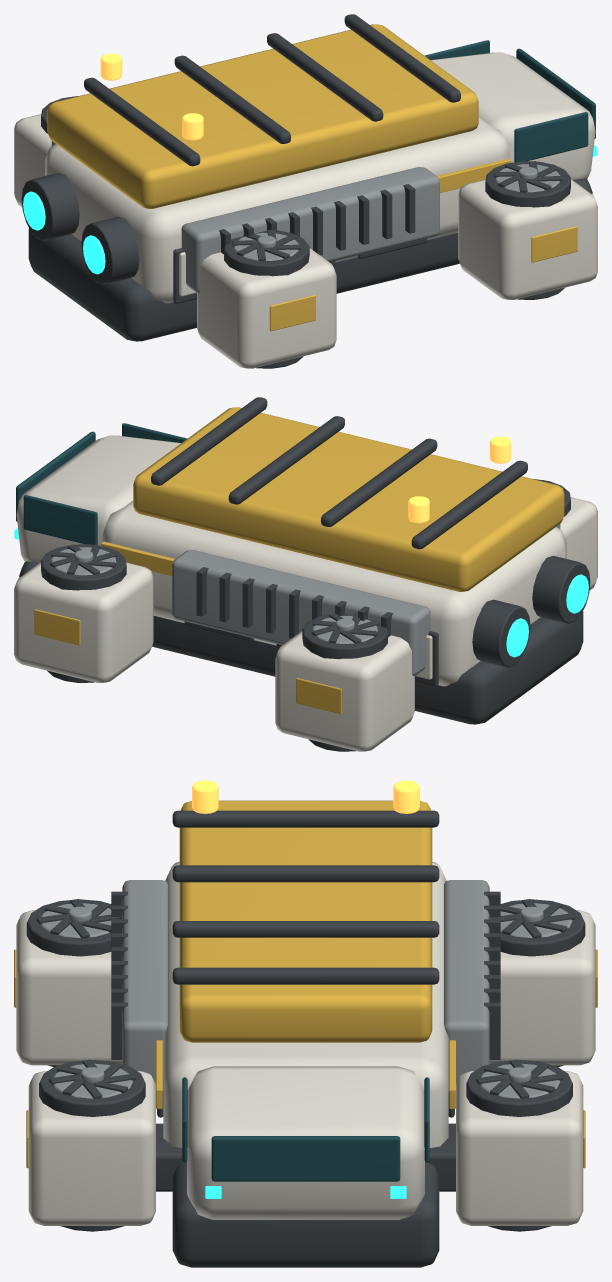
The model's file is SM_AtlasFoundry_Body.fbx.
The picture shows the model from 3 angles, top to bottom: view 1: azimuth 30°, elevation 25°; view 2: azimuth 150°, elevation 25°; view 3: azimuth 270°, elevation 25°; orthographic projection. The views are drawn at different scales.
Visible parts, largest first — view 1: SM_AtlasFoundry_Body.001; view 2: SM_AtlasFoundry_Body.001; view 3: SM_AtlasFoundry_Body.001.
Part boxes in pixels (<box>): SM_AtlasFoundry_Body.001: <box>14,14,597,368</box>; SM_AtlasFoundry_Body.001: <box>14,397,597,751</box>; SM_AtlasFoundry_Body.001: <box>14,780,597,1267</box>.
Size of the model in its own units: 34470 by 28440 by 13760.
